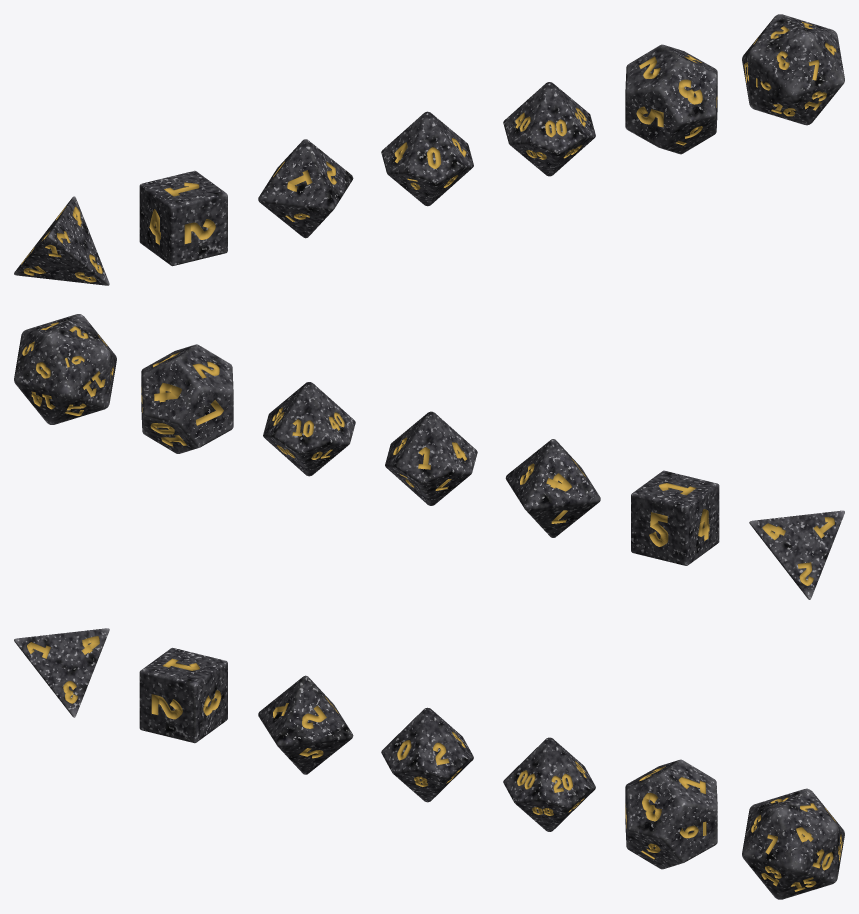
File: forged-iron.glb
3 renders of one model, top to bottom at view 1: azimuth 30°, elevation 25°; view 2: azimuth 150°, elevation 25°; view 3: azimuth 330°, elevation 25°, orthographic.
Parts seen in each view (by area): view 1: d20, d12, d6, d100, d10, d8, d4; view 2: d20, d12, d6, d100, d10, d8, d4; view 3: d20, d12, d6, d8, d100, d10, d4.
Boxes of the visible parts, x1=… form: d20: x1=742, y1=14, x2=844, y2=125; d12: x1=625, y1=44, x2=717, y2=154; d6: x1=139, y1=170, x2=227, y2=266; d100: x1=503, y1=82, x2=595, y2=176; d10: x1=381, y1=111, x2=473, y2=206; d8: x1=258, y1=139, x2=353, y2=238; d4: x1=14, y1=196, x2=109, y2=285; d20: x1=14, y1=314, x2=116, y2=424; d12: x1=141, y1=344, x2=233, y2=453; d6: x1=631, y1=470, x2=719, y2=565; d100: x1=263, y1=382, x2=355, y2=476; d10: x1=385, y1=411, x2=477, y2=505; d8: x1=505, y1=439, x2=600, y2=537; d4: x1=749, y1=510, x2=844, y2=599; d20: x1=742, y1=788, x2=844, y2=899; d12: x1=625, y1=759, x2=717, y2=869; d6: x1=139, y1=647, x2=227, y2=743; d8: x1=258, y1=675, x2=353, y2=774; d100: x1=503, y1=737, x2=595, y2=831; d10: x1=381, y1=707, x2=473, y2=802; d4: x1=14, y1=628, x2=109, y2=717.
Size of the model in its own units: 21.14 by 2.47 by 2.47.
14 materials, 7 textured.
